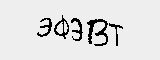М: (23, 21, 43, 37)
Н: (94, 26, 119, 45)
Т: (59, 22, 76, 38)
Х: (121, 26, 139, 46)
Ч: (75, 23, 97, 43)
Ұ: (42, 21, 61, 37)
